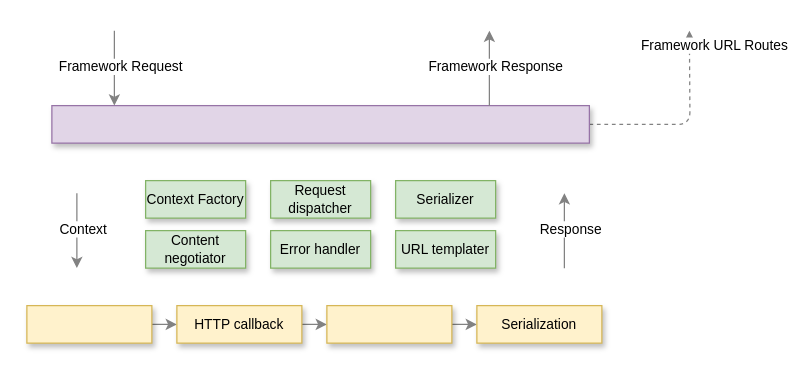
Image size: 809x374. Some labels were removed from this diagram. Here are the shapes that lost their labels. From the top down, the centre of each, then its label:
At (321,125): "Web Framework Adapter".
At (90,325): "Resource".
At (390,325): "Representation".
